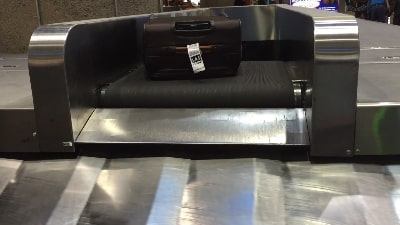baggage: (139, 16, 253, 81)
